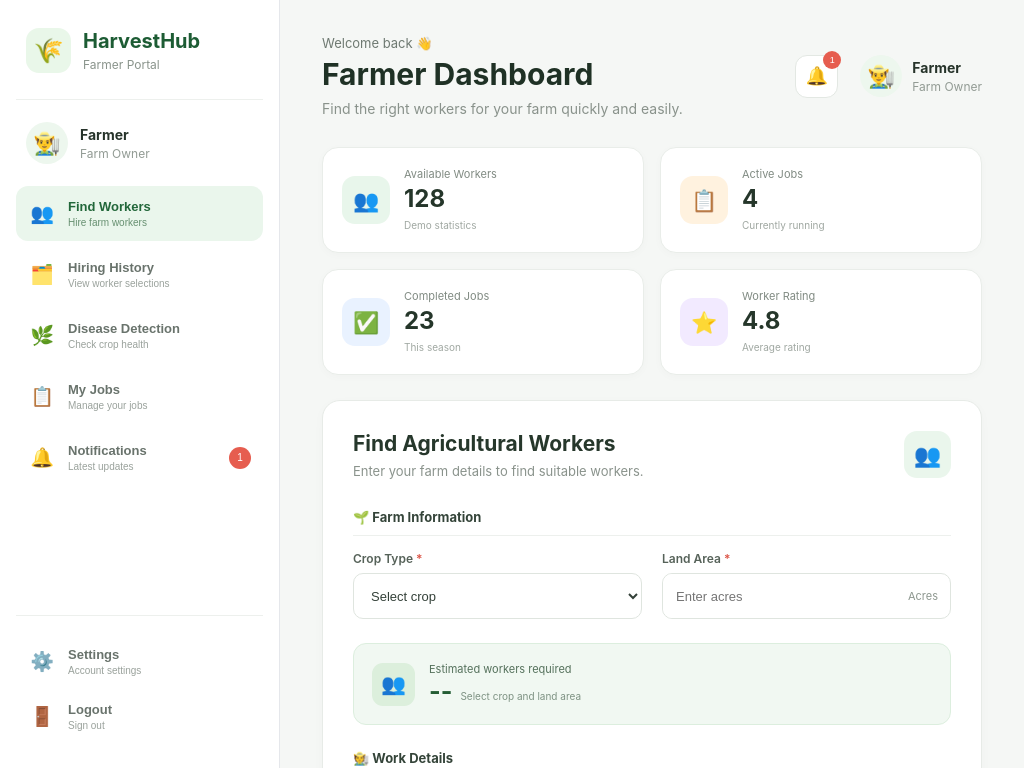
it: shows a worker profile in notifications after the worker accepts a job
Click the button "🔔 Notifications Latest updates 1" at [140, 458], box [16,430,263,485]
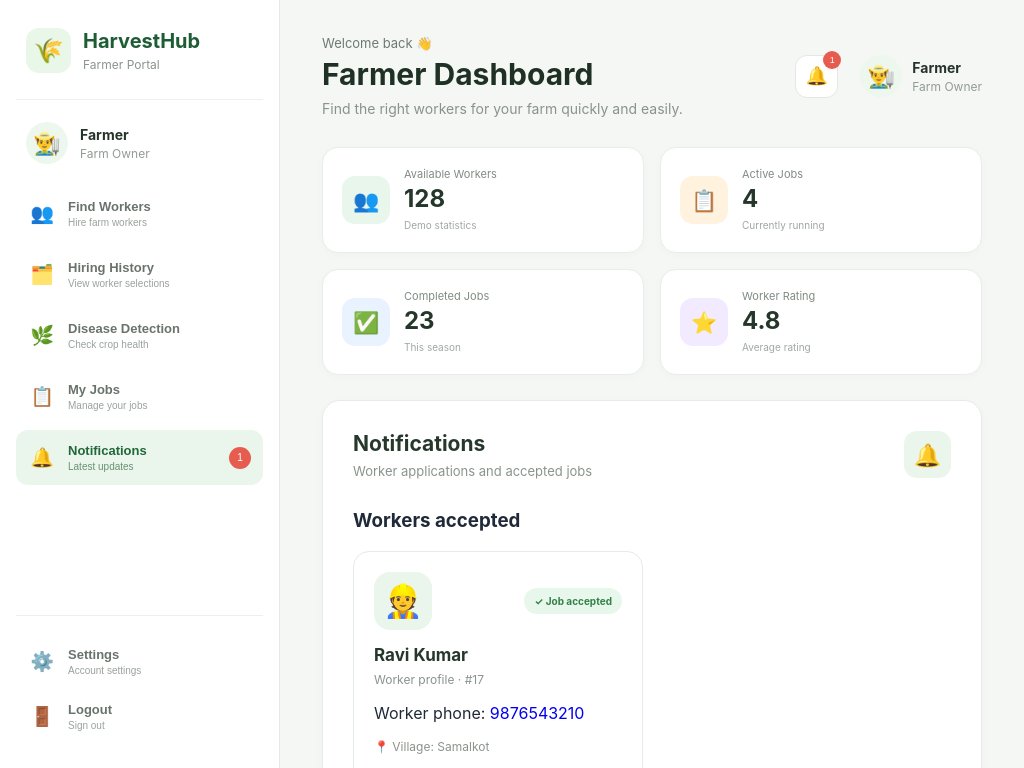
Expected: the heading "Workers accepted" is shown, [353,509,520,532]
Expected: the heading "Ravi Kumar" is shown, [374,645,468,665]
Expected: the text "📍 Village: Samalkot" is shown, [374,739,489,754]
